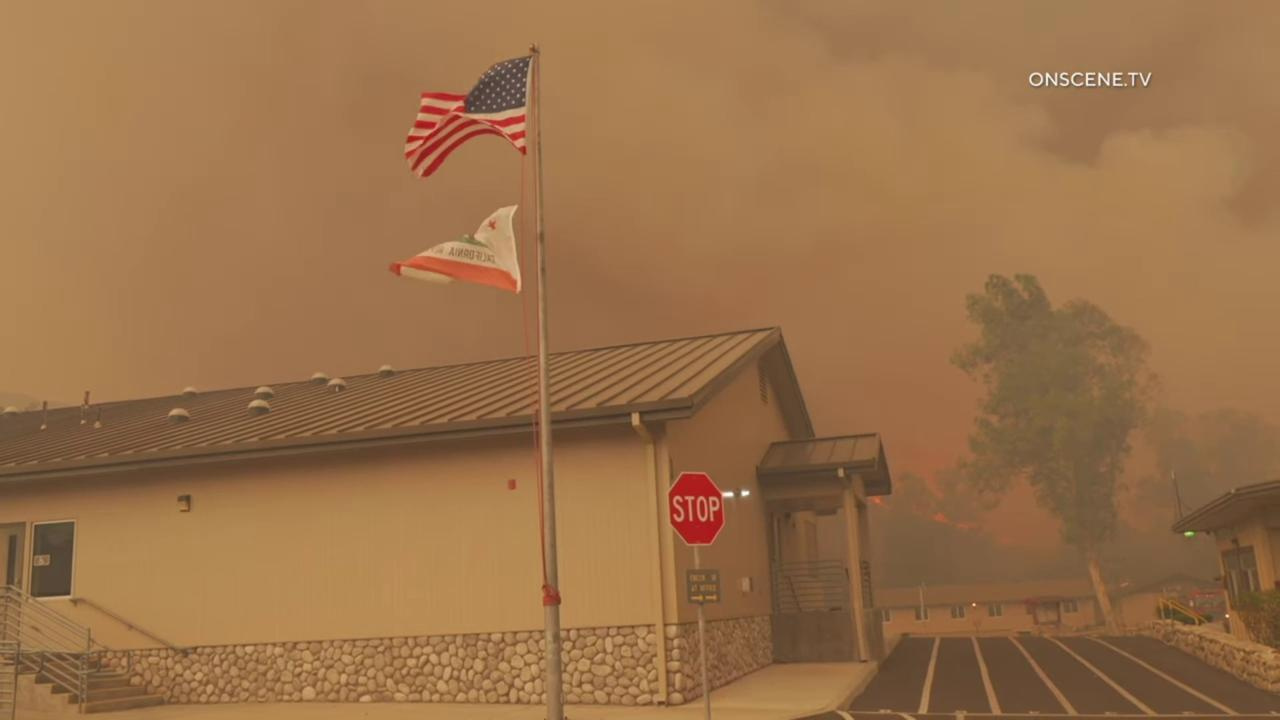fire: (864, 496, 886, 508), (930, 511, 949, 523)
smoke: (0, 0, 1280, 583)
